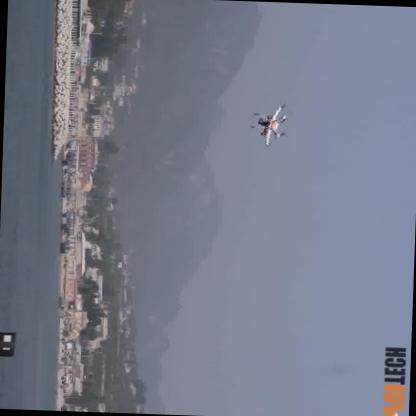drone: (239, 91, 297, 152)
